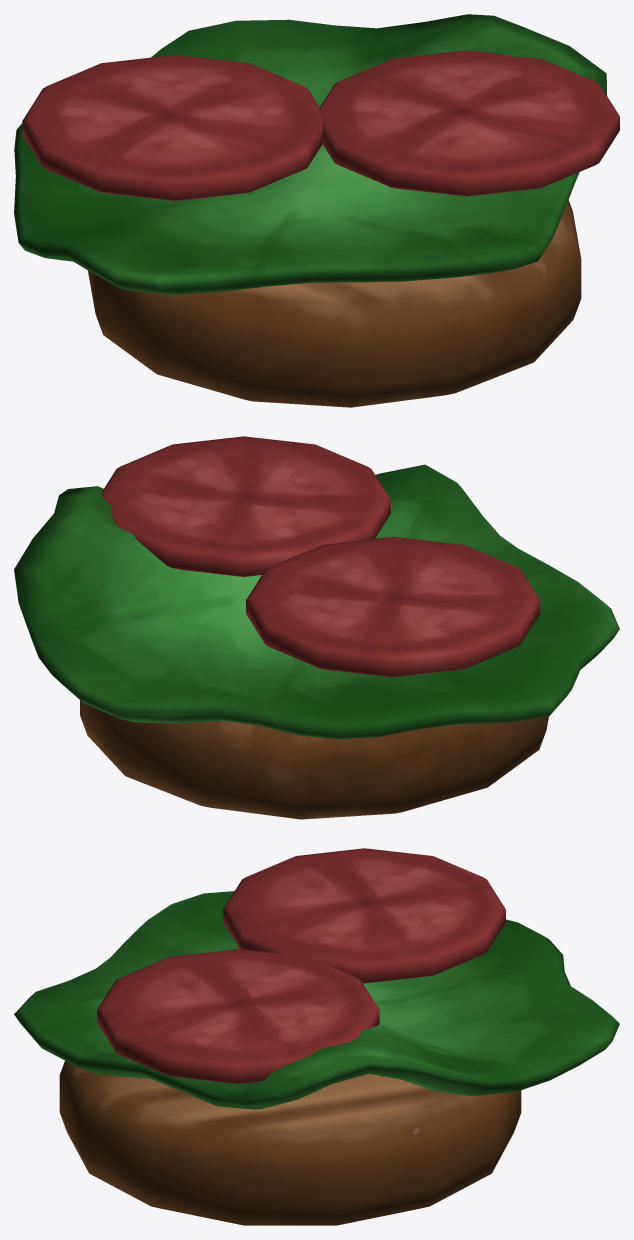
Rendered from MSH_C_L_J.fbx.
3 renders of one model, top to bottom at view 1: azimuth 30°, elevation 25°; view 2: azimuth 150°, elevation 25°; view 3: azimuth 270°, elevation 25°, orthographic. The views are drawn at different scales.
Visible parts, largest first — view 1: MSH_C_L_J; view 2: MSH_C_L_J; view 3: MSH_C_L_J.
Part boxes in pixels (left/top/right/bottom): MSH_C_L_J: left=14, top=14, right=619, bottom=407; MSH_C_L_J: left=14, top=436, right=619, bottom=819; MSH_C_L_J: left=14, top=848, right=619, bottom=1225.
Size of the model in its own units: 16.25 by 16.87 by 5.72.
Materials: 1 (1 with a texture image).
